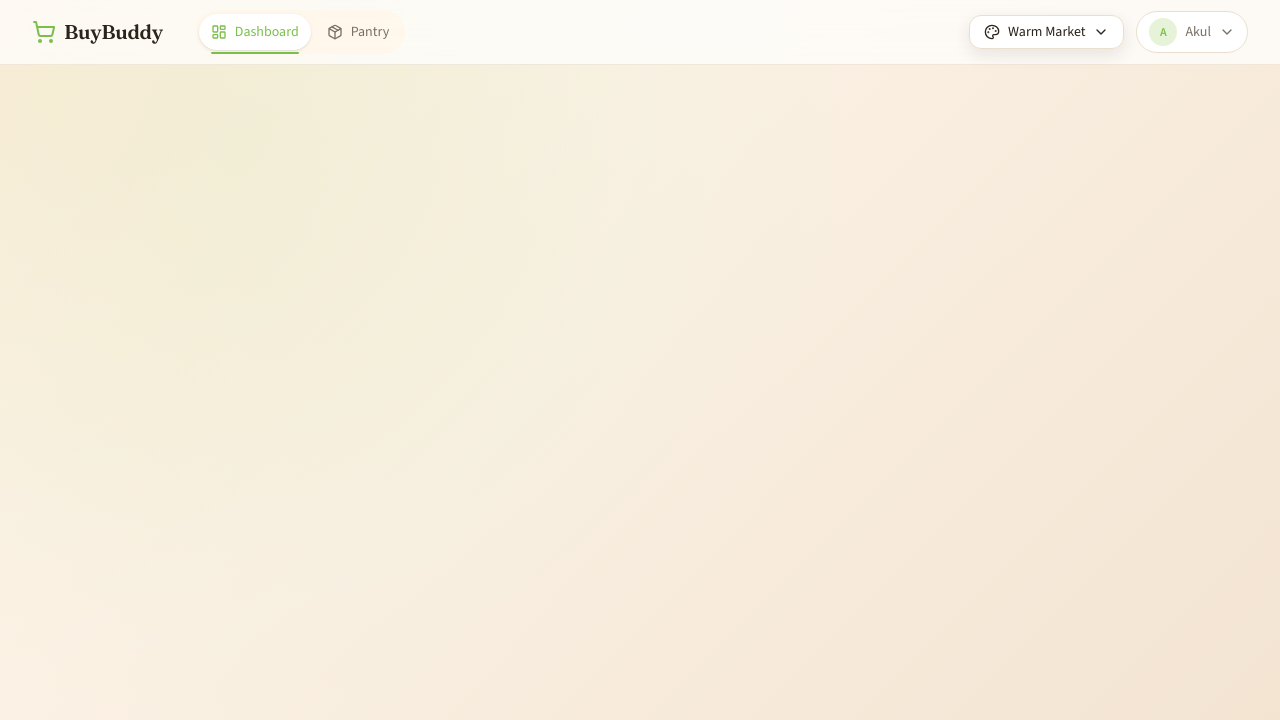
Navbar interactions › opens user menu and closes on outside click
What coordinates should you click on to do the following:
click the button "A Akul"
I would click on:
 (1192, 32)
Its box is 1136,11 -> 1248,53.
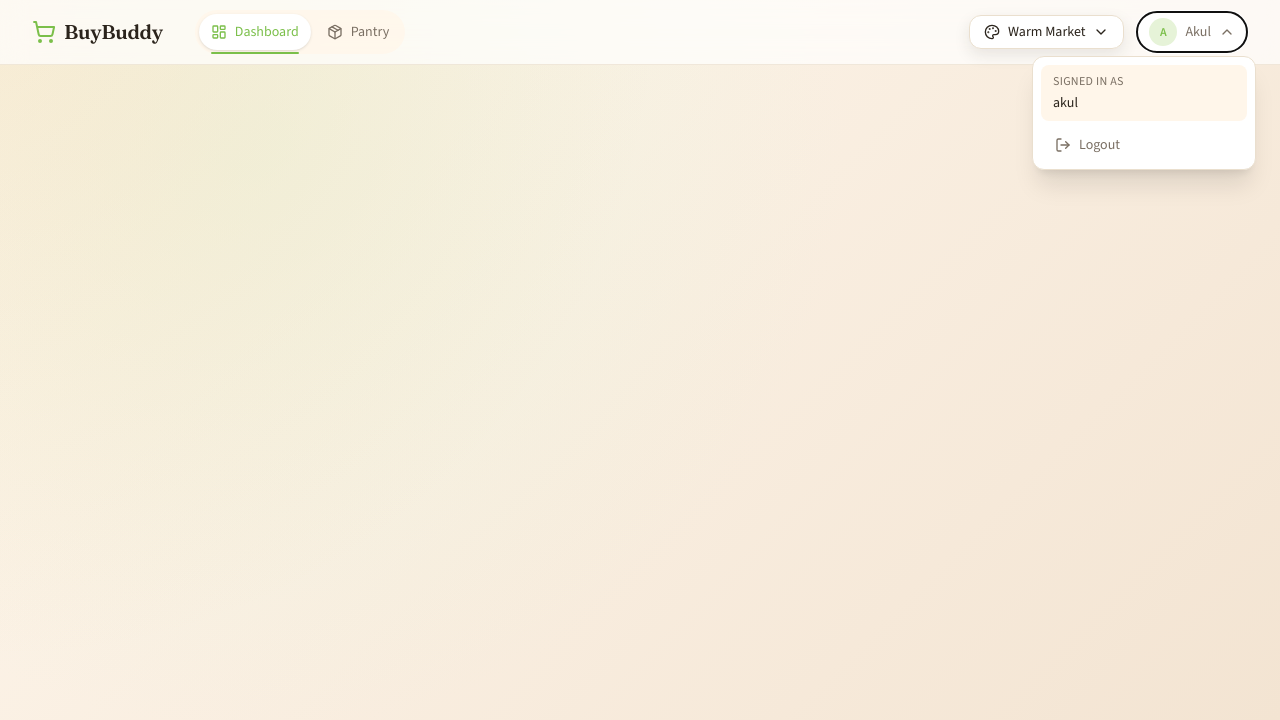
Expected: the menu is shown, 1032,56 -> 1256,170
What coordinates should you click on to do the following:
click the element that starts with "BuyBuddy"
I would click on:
 (640, 360)
Its box is 0,0 -> 1279,719.
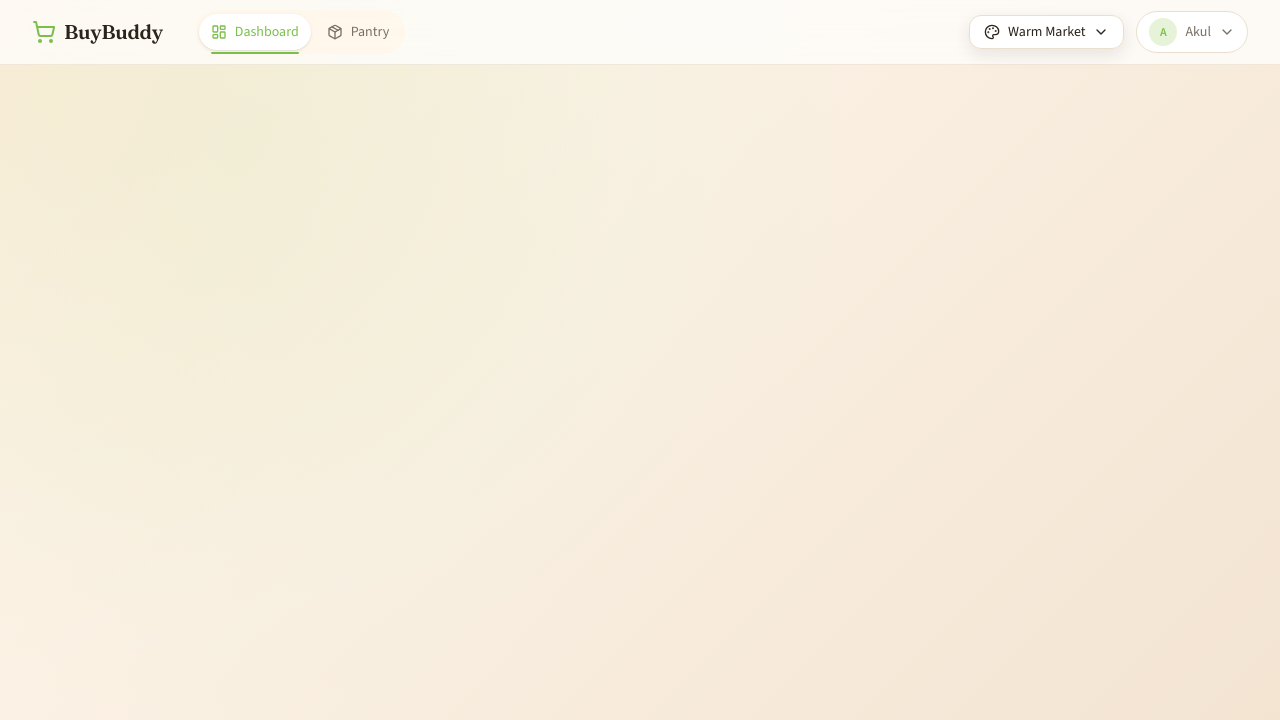
Expected: the menu is gone
